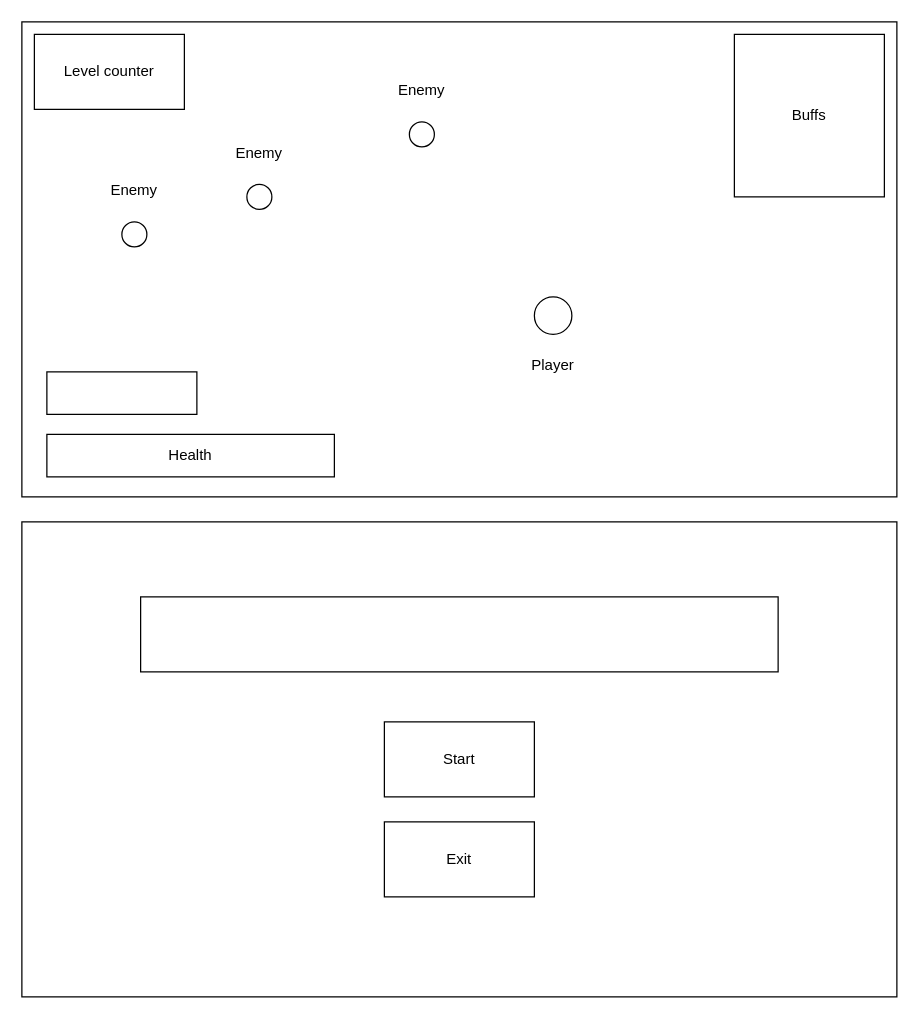
Some shapes in this 919 by 1019 pixel diagram are drawn without their labels. Here are the shapes that lost their labels. From the top down, the centre of each, then its label:
At (121,392): "total enemy left".
At (458,634): "Drangon Heart".
